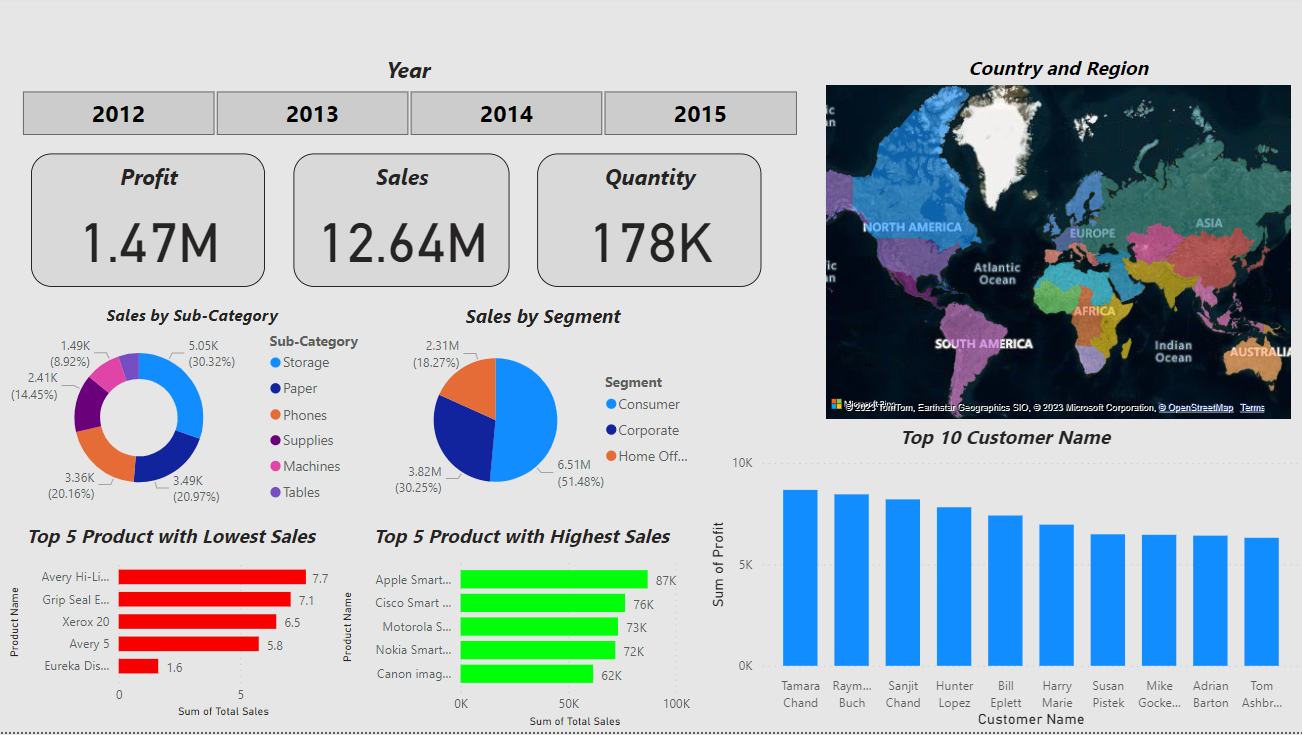

The page's visual inventory and layout, read from the dashboard file:
{"tool":"powerbi","page":{"name":"Page 1","canvas":[1280,720],"ordinal":0},"visuals":[{"type":"card","title":"Sales","fields":{"Values":["Orders.Sales"]},"box":[290.9,153.7,211.3,130.4],"z":0},{"type":"card","title":"Profit","fields":{"Values":["Orders.Profit"]},"box":[34.3,153.7,229.2,130.4],"z":1000},{"type":"slicer","title":"Year","fields":{"Values":["Orders.Year"]},"box":[0,57.6,806.9,85.1],"z":2000},{"type":"map","fields":{"Category":["Orders.Country","Orders.Region"]},"box":[806.9,57.6,463.8,360.9],"z":3000},{"type":"card","title":"Quantity","fields":{"Values":["Orders.Quantity"]},"box":[529.7,153.7,219.6,130.4],"z":4000},{"type":"donutChart","title":"Sales by Sub-Category","fields":{"Category":["Orders.Sub-Category"],"Y":["Orders.Sub-Category"]},"box":[6.9,300.5,369.1,201.7],"z":4002},{"type":"clusteredBarChart","title":"Top 5 Product with Lowest Sales","fields":{"Category":["Orders.Product Name"],"Y":["Orders.Total Sales"]},"box":[6.9,514.6,326.6,196.2],"z":4004},{"type":"clusteredBarChart","title":"Top 5 Product with Highest Sales","fields":{"Category":["Orders.Product Name"],"Y":["Orders.Total Sales"]},"box":[333.4,514.6,359.5,205.8],"z":4005},{"type":"pieChart","title":"Sales by Segment","fields":{"Category":["Orders.Segment"],"Y":["Orders.Total Sales"]},"box":[376,299.1,317,205.8],"z":4006},{"type":"clusteredColumnChart","title":"Top 10 Customer Name","fields":{"Category":["Orders.Customer Name"],"Y":["Orders.Profit"]},"box":[693,418.5,587.3,301.9],"z":4007}]}

Visuals, with their boxes in screenshot pixels (x1, y1, x2, y2), scaled from the page's 1280x720 canvas onto the 1302x735 screenshot:
"Sales" card: (296, 157, 511, 290)
"Profit" card: (35, 157, 268, 290)
"Year" slicer: (0, 59, 821, 146)
map - Orders.Country x Orders.Region: (821, 59, 1293, 427)
"Quantity" card: (539, 157, 762, 290)
"Sales by Sub-Category" donutChart: (7, 307, 382, 513)
"Top 5 Product with Lowest Sales" clusteredBarChart: (7, 525, 339, 726)
"Top 5 Product with Highest Sales" clusteredBarChart: (339, 525, 705, 734)
"Sales by Segment" pieChart: (382, 305, 705, 515)
"Top 10 Customer Name" clusteredColumnChart: (705, 427, 1301, 734)
